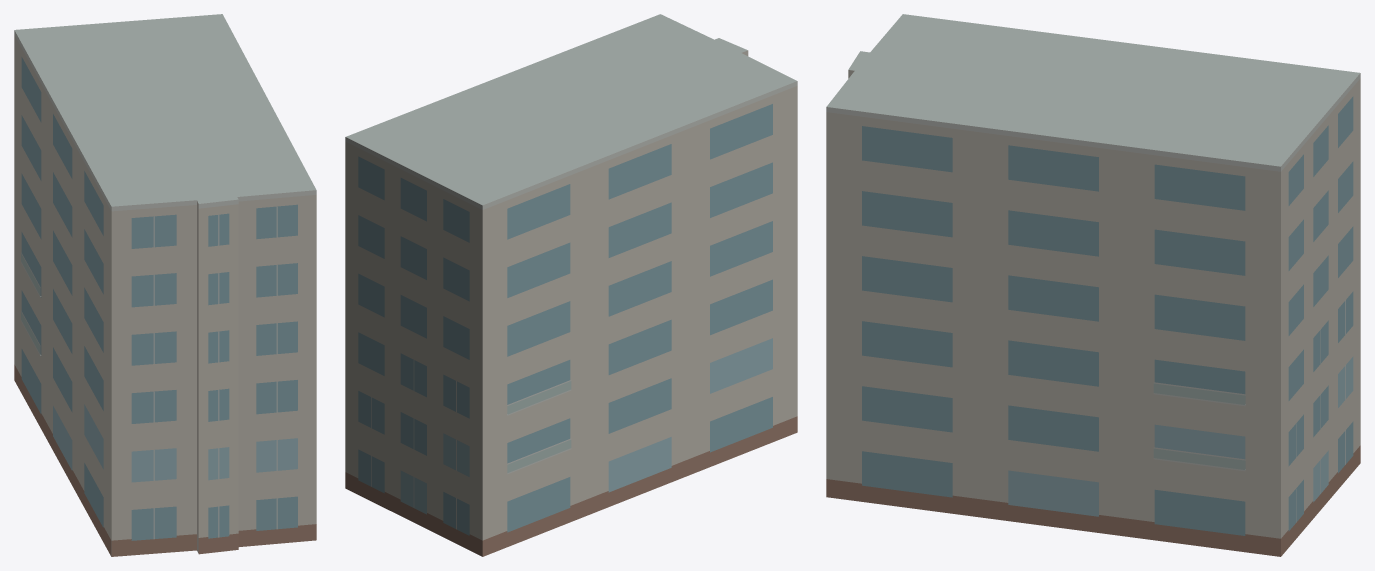
Rendered from survey-upis-32880514.glb.
The picture shows the model from 3 angles, left to right: view 1: azimuth 30°, elevation 25°; view 2: azimuth 150°, elevation 25°; view 3: azimuth 270°, elevation 25°; orthographic projection. The views are drawn at different scales.
Parts seen in each view (by area): view 1: survey-upis-32880514.tmp; view 2: survey-upis-32880514.tmp; view 3: survey-upis-32880514.tmp.
Part boxes in pixels (box(x1,y1,x2,y2)): survey-upis-32880514.tmp: box(14, 14, 316, 556); survey-upis-32880514.tmp: box(345, 14, 797, 556); survey-upis-32880514.tmp: box(826, 14, 1360, 556).
Bounding box in the file's own units: 15.45 × 18.4 × 22.84.
